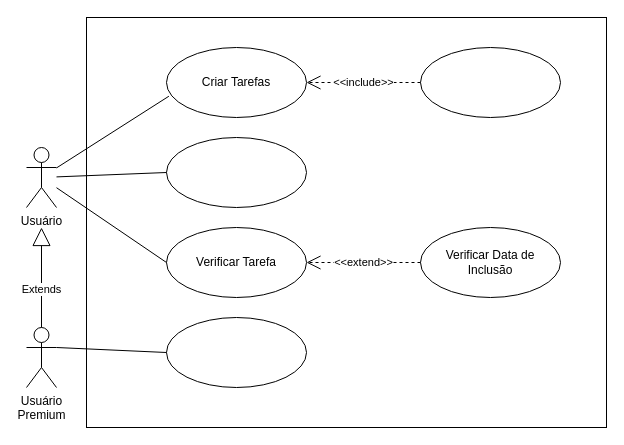
The diagram is 624 pixels wide and 445 high, and some of its shapes have lost their labels. The shapes that lost their labels are listed below. From the top down, each one's box as (x1, y1, x2, y2) in pixels, then its label:
(420, 46, 560, 118): Enviar E-mail
(166, 136, 306, 208): Atualizar Tarefas
(166, 316, 306, 388): Excluir Tarefas
